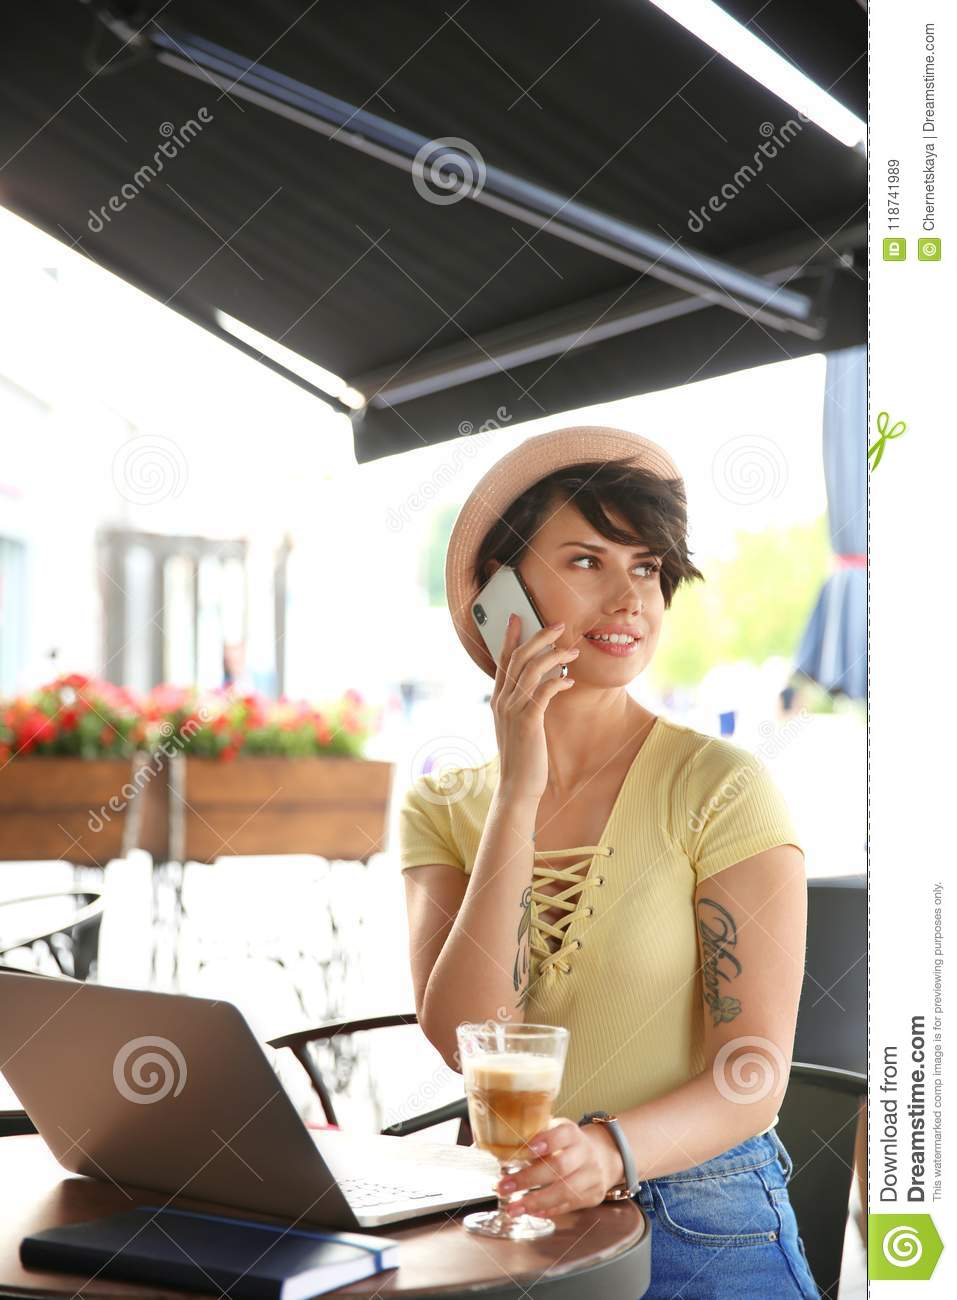phone: (471, 565, 571, 717)
talk: (468, 528, 659, 815)
